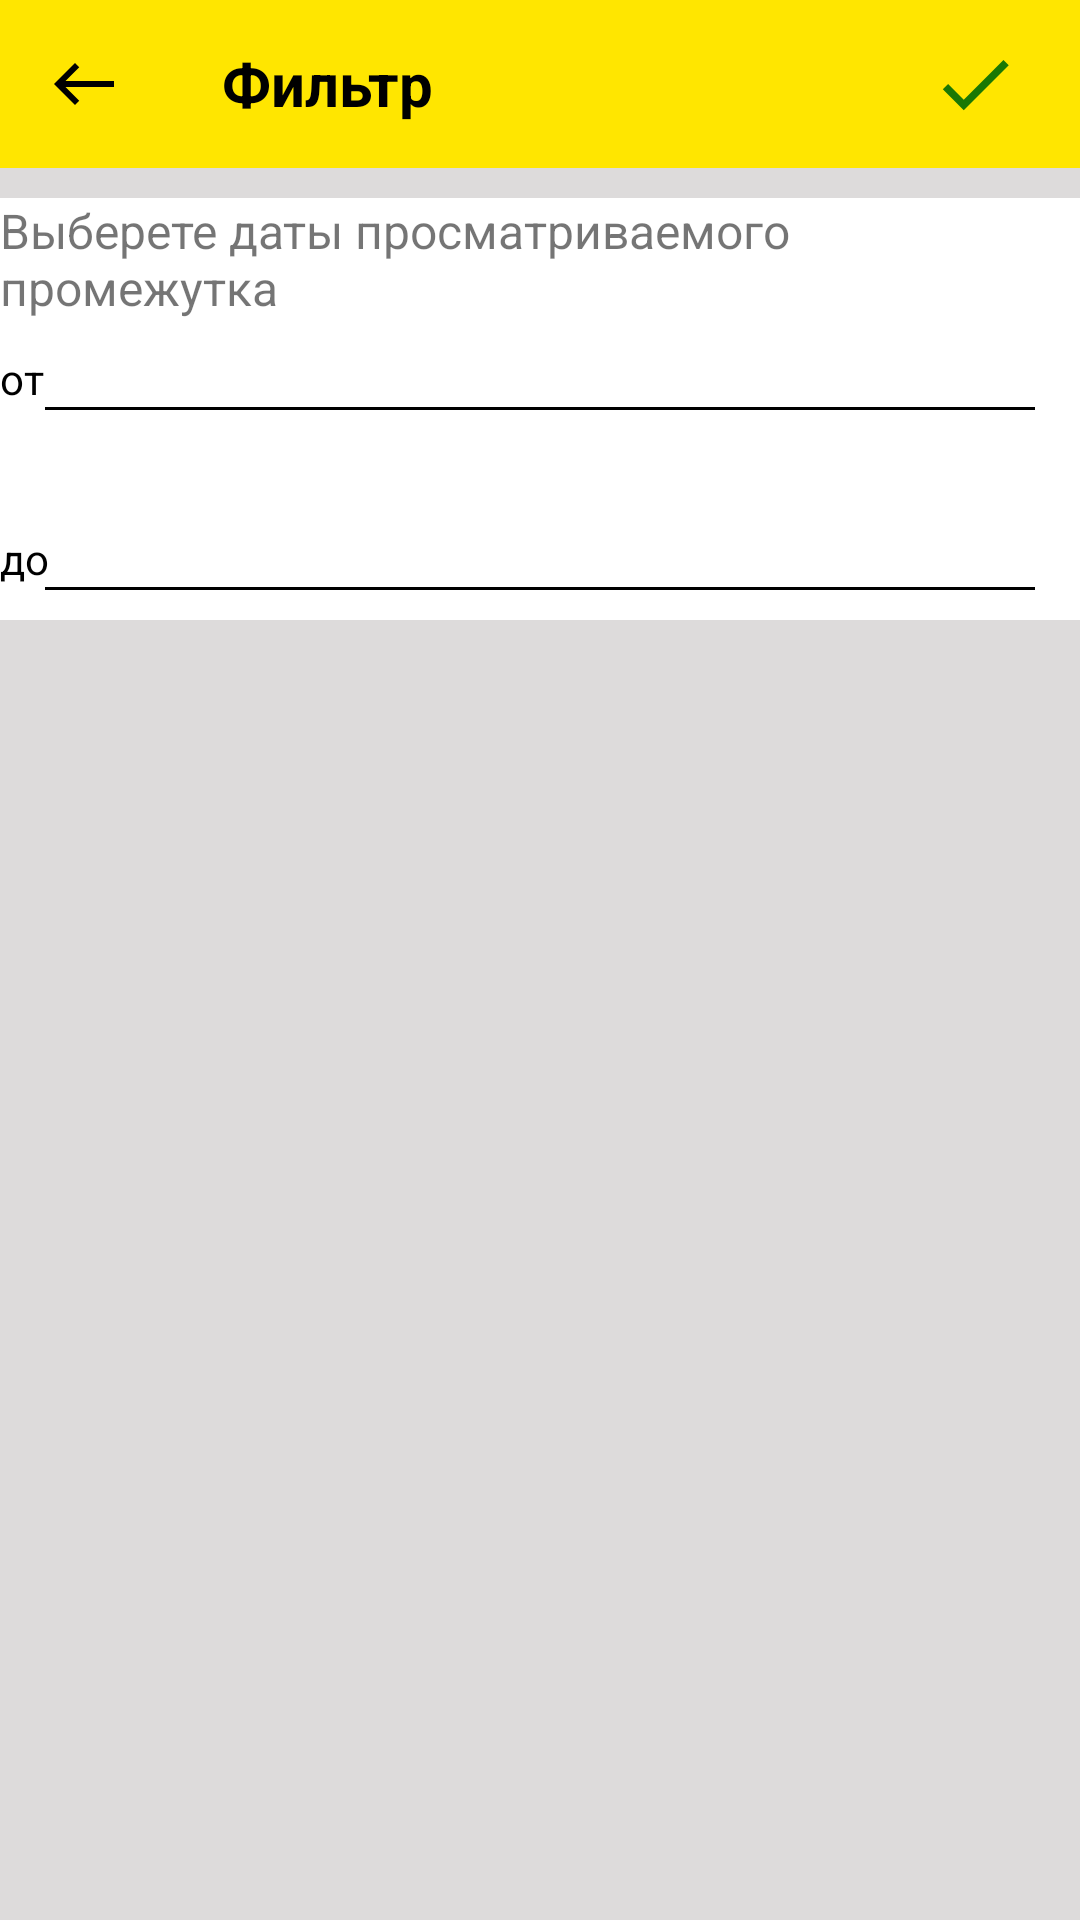

Icon bounding boxes for this 1080*1920 phone screenshot, format (x1,y1,x2,y2):
back: (54,63,114,105)
bnt save: (943,60,1009,110)
